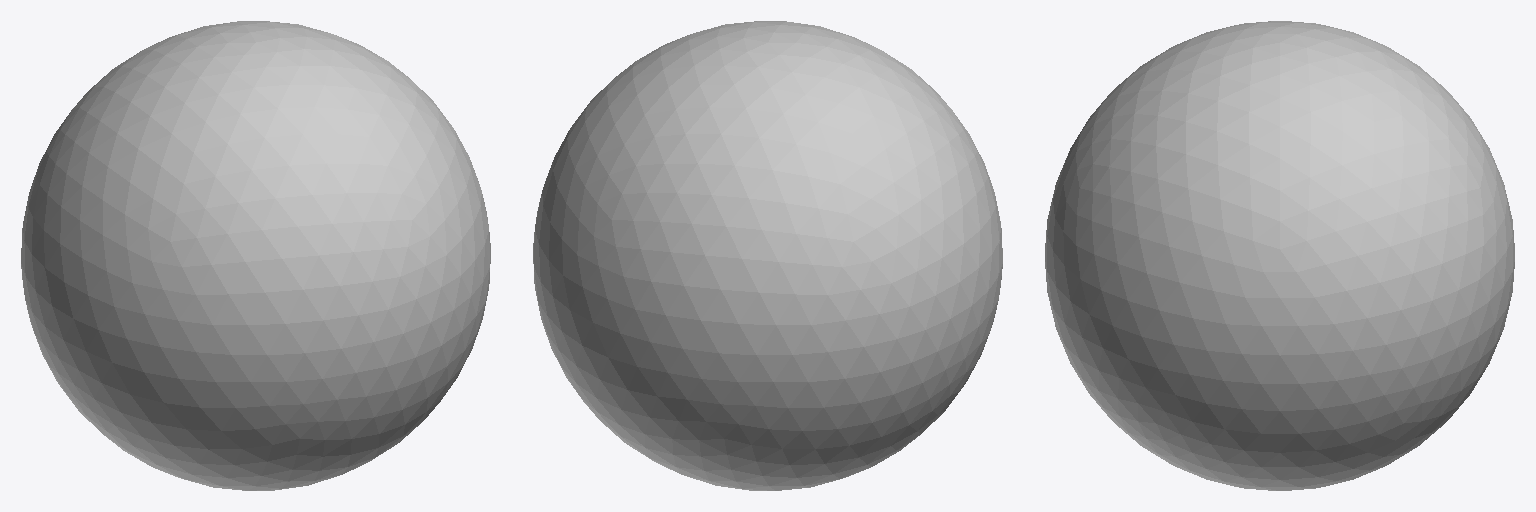
Rendered from sphereiso.obj.
3 views of the same model, side by side, from view 1: azimuth 30°, elevation 25°; view 2: azimuth 150°, elevation 25°; view 3: azimuth 270°, elevation 25° (orthographic).
Visible parts, largest first — view 1: Icosphere_Icosphere.001; view 2: Icosphere_Icosphere.001; view 3: Icosphere_Icosphere.001.
Boxes of the visible parts, box(x1,y1,x2,y2) form: Icosphere_Icosphere.001: box(21, 21, 490, 490); Icosphere_Icosphere.001: box(533, 21, 1002, 490); Icosphere_Icosphere.001: box(1045, 21, 1514, 490).
Bounding box in the file's own units: 2 × 2 × 2.